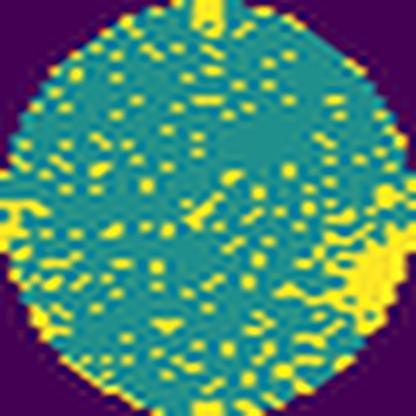Edge-Loc: (276, 207, 415, 334), (186, 0, 225, 38)
